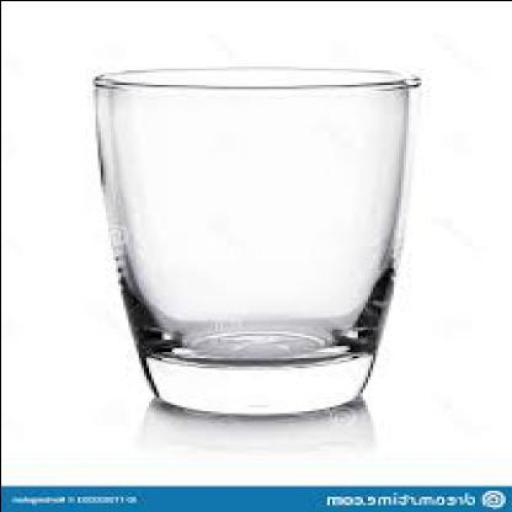glass: (94, 66, 420, 412)
